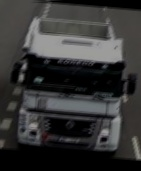truck: (17, 15, 128, 154)
